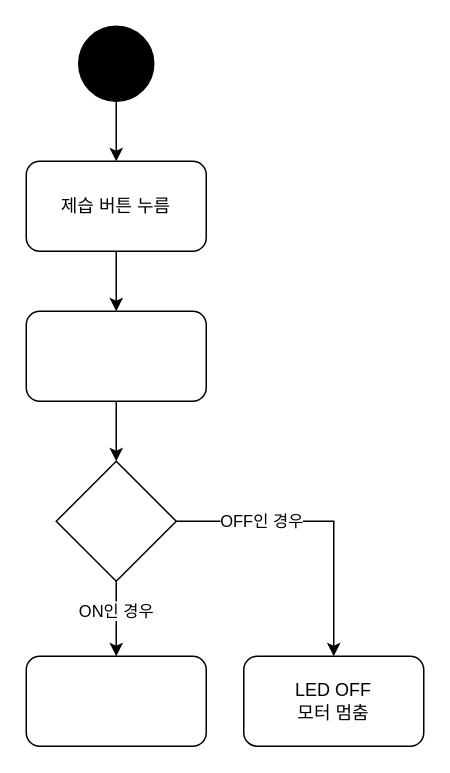
The diagram is 450 pixels wide and 773 high, and some of its shapes have lost their labels. Each missing label, with the centre of its shape:
"LED ON 모터 회전" belongs at [115,700].
"On/Off 상태 저장" belongs at [115,355].
